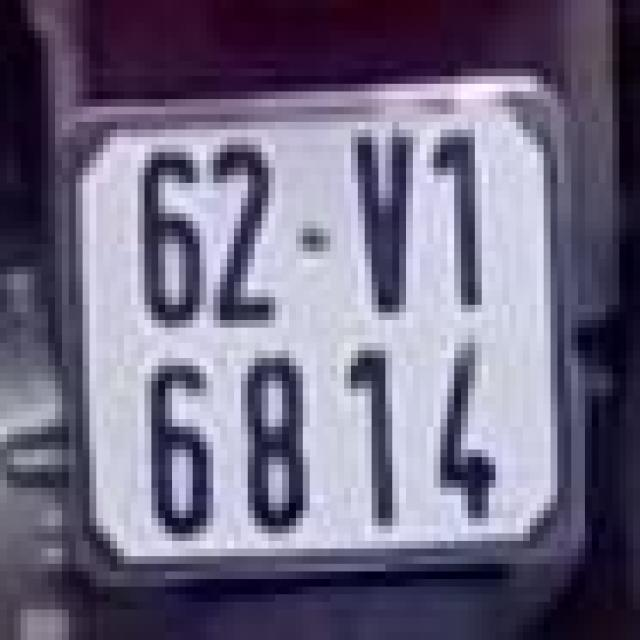1: (337, 332, 413, 537), (423, 125, 492, 308)
2: (206, 137, 289, 328)
4: (427, 332, 509, 530)
6: (131, 346, 220, 544), (131, 145, 206, 335)
8: (234, 346, 310, 530)
V: (341, 118, 416, 324)
